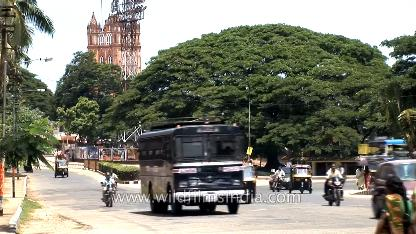auto-rikshaw: (290, 164, 314, 194), (53, 158, 70, 180)
bike: (324, 163, 344, 207), (100, 171, 116, 207), (268, 166, 286, 194), (106, 166, 118, 194)
priority: (134, 124, 248, 216)
